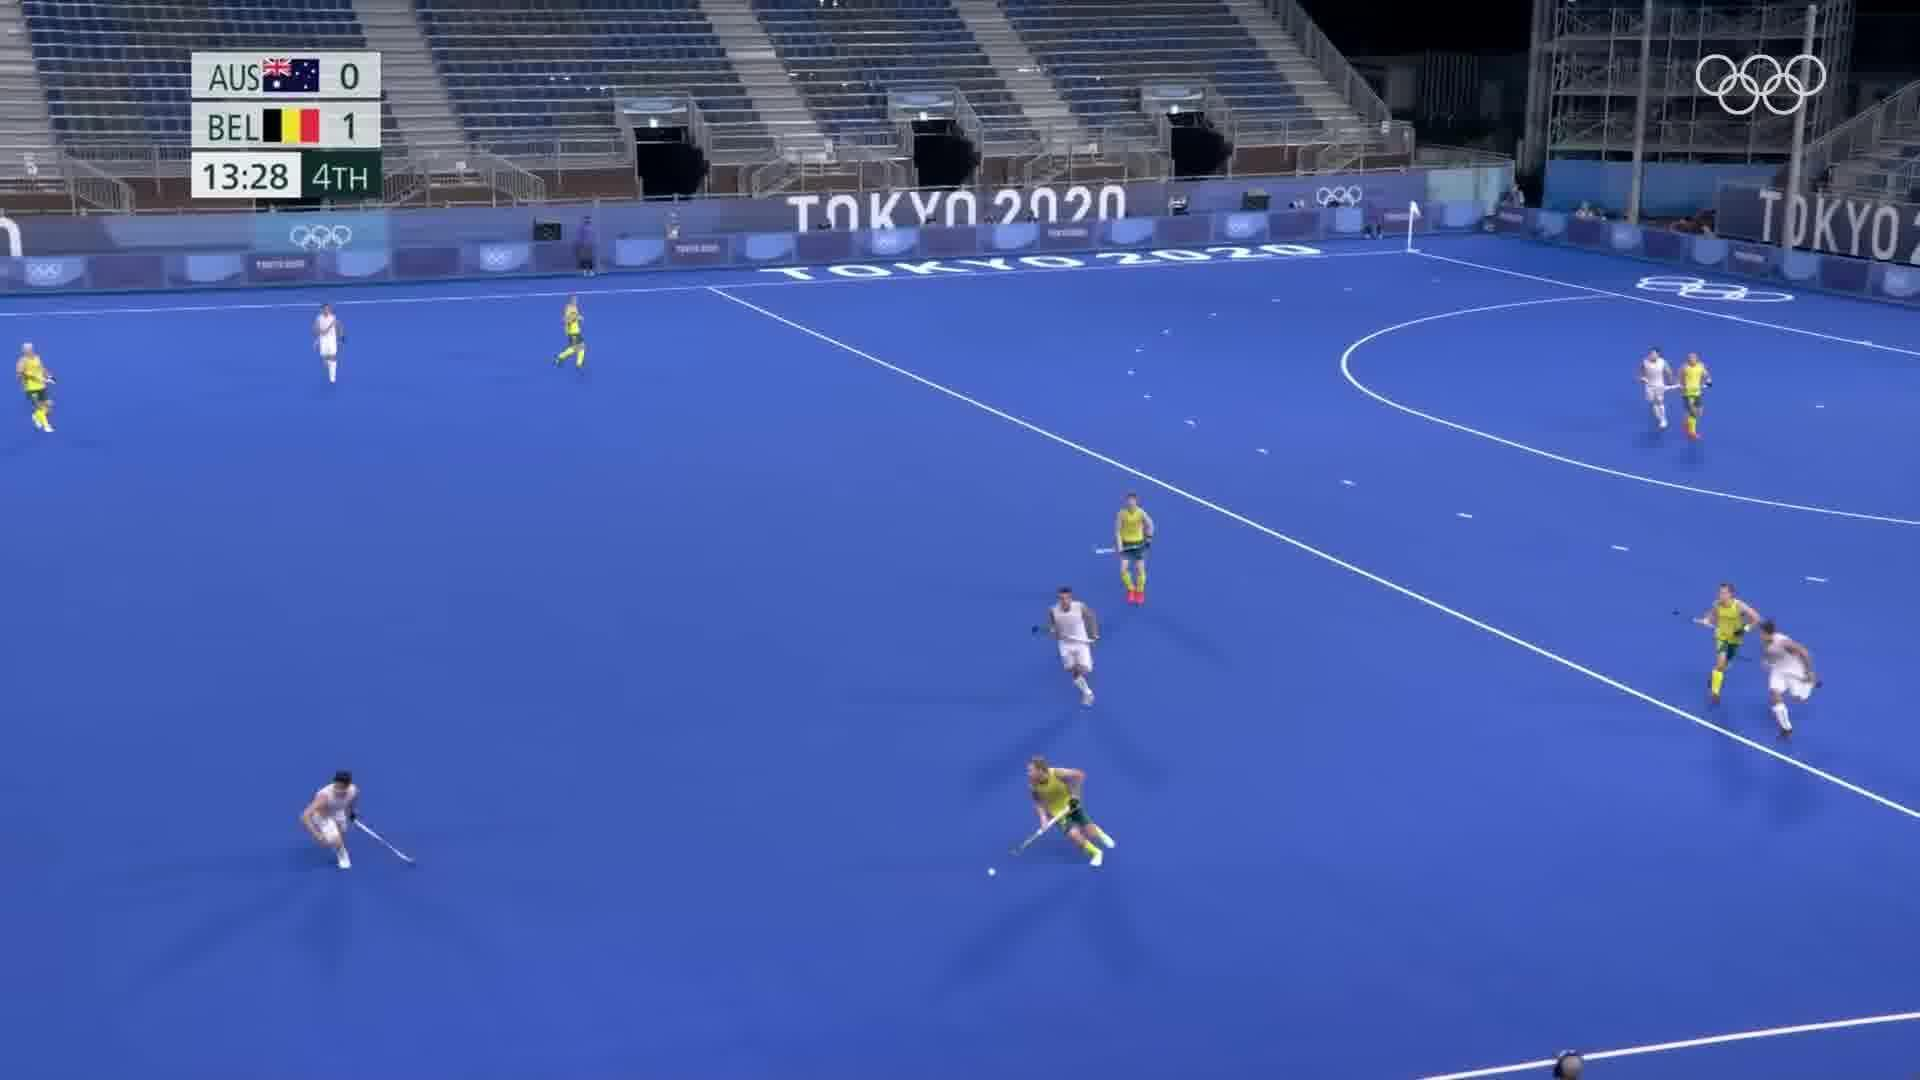ball: (982, 861, 1001, 881)
